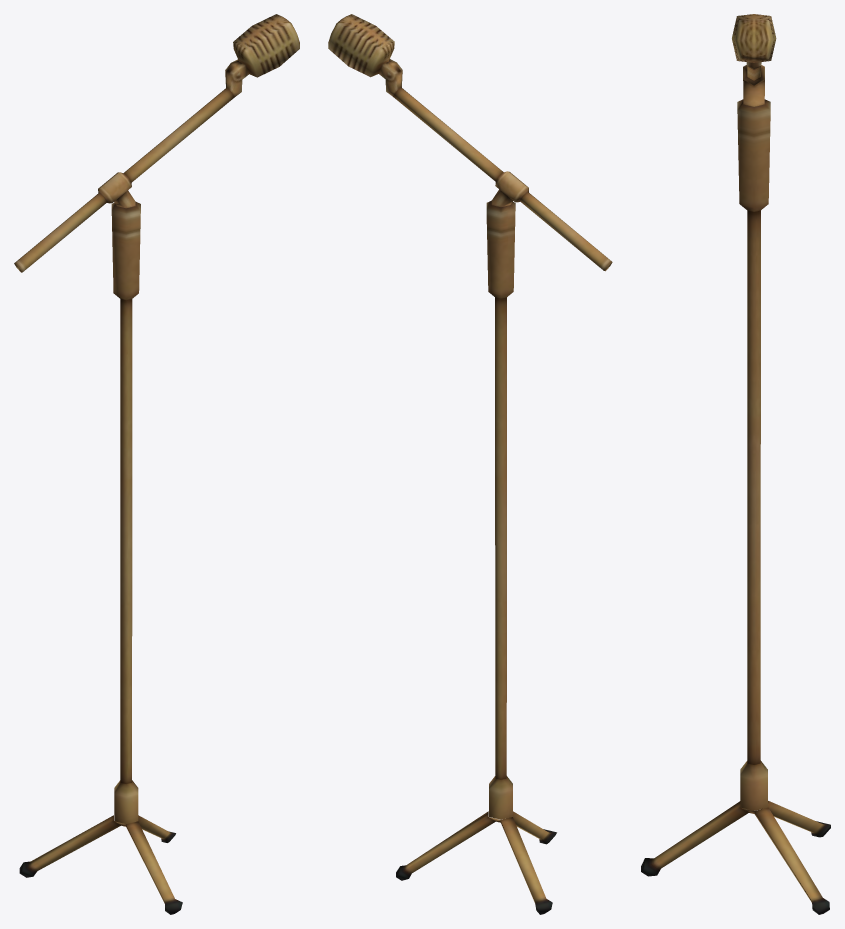
File: starMicrophone.glb
3 views of the same model, side by side, from view 1: azimuth 30°, elevation 25°; view 2: azimuth 150°, elevation 25°; view 3: azimuth 270°, elevation 25° (orthographic). The views are drawn at different scales.
Visible parts, largest first — view 1: starMicrophone; view 2: starMicrophone; view 3: starMicrophone.
Part boxes in pixels (bbox=[...]): starMicrophone: bbox=[14, 14, 299, 914]; starMicrophone: bbox=[328, 14, 612, 914]; starMicrophone: bbox=[641, 14, 830, 914].
Size of the model in its own units: 0.7421 by 2.09 by 0.3813.
Materials: 1 (1 with a texture image).
